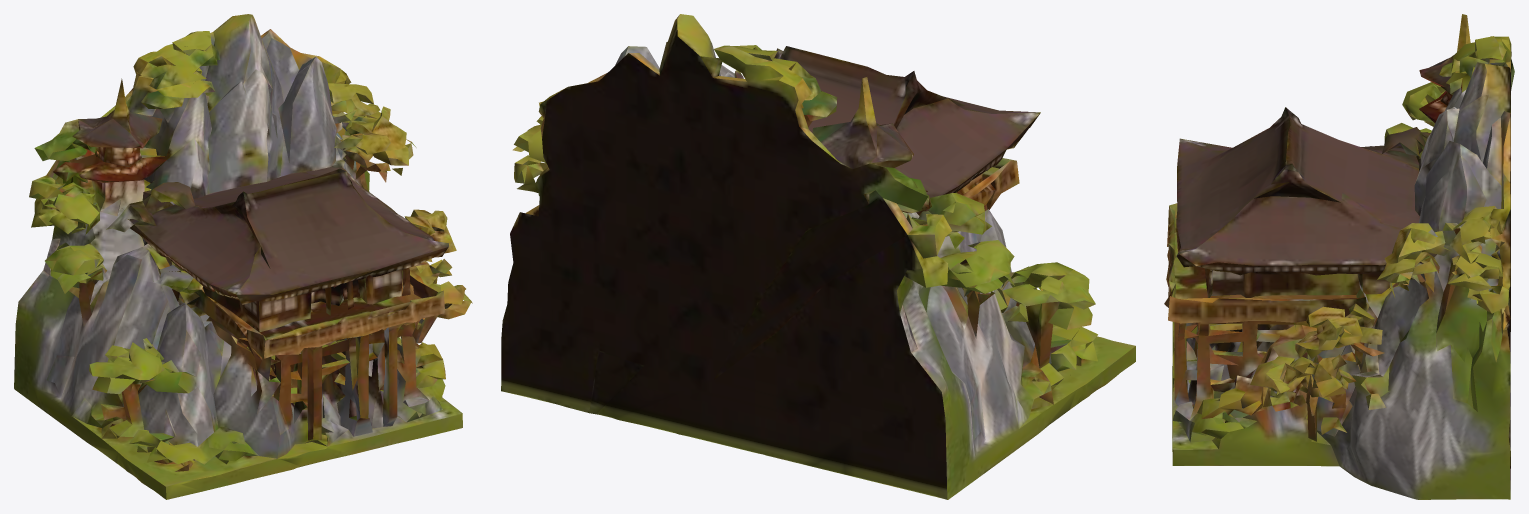
Rendered from ishiyamadera.glb.
3 renders of one model, left to right at view 1: azimuth 30°, elevation 25°; view 2: azimuth 150°, elevation 25°; view 3: azimuth 270°, elevation 25°, orthographic. The views are drawn at different scales.
Parts seen in each view (by area): view 1: logan-textured.obj; view 2: logan-textured.obj; view 3: logan-textured.obj.
Part boxes in pixels (x1,y1,x2,y2): logan-textured.obj: (14,14,472,499); logan-textured.obj: (501,14,1135,499); logan-textured.obj: (1164,14,1514,499).
Size of the model in its own units: 1 by 0.8243 by 0.7187.
Materials: 1 (1 with a texture image).
